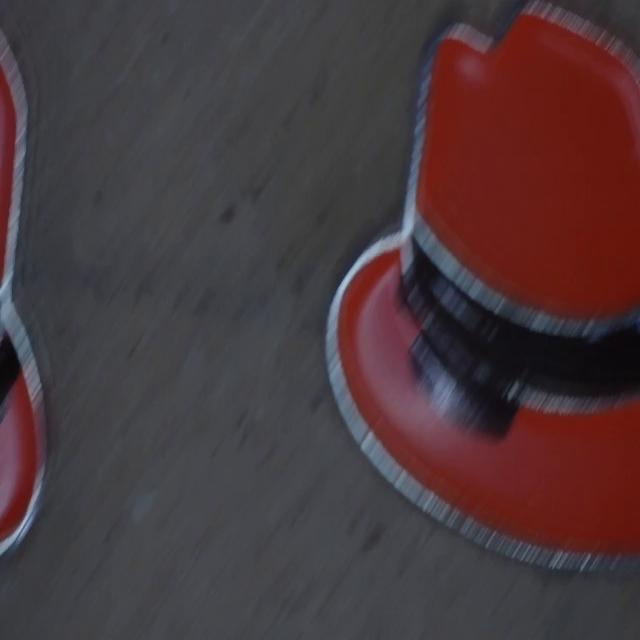Hatband: (402, 240, 640, 411)
Paint_Leak: (410, 331, 515, 436)
RedHatPin: (326, 4, 640, 569), (0, 31, 46, 554)
